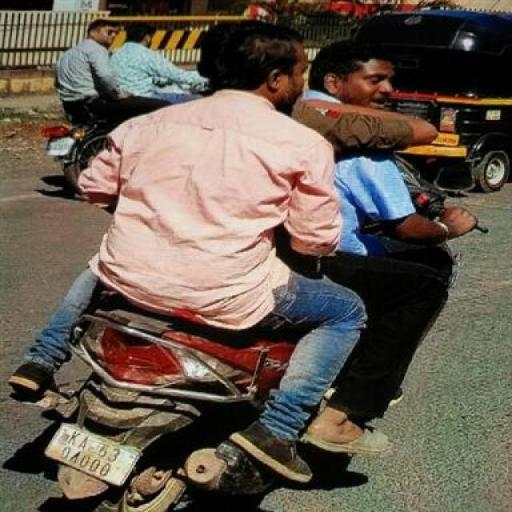tripple riding: (65, 12, 491, 342)
